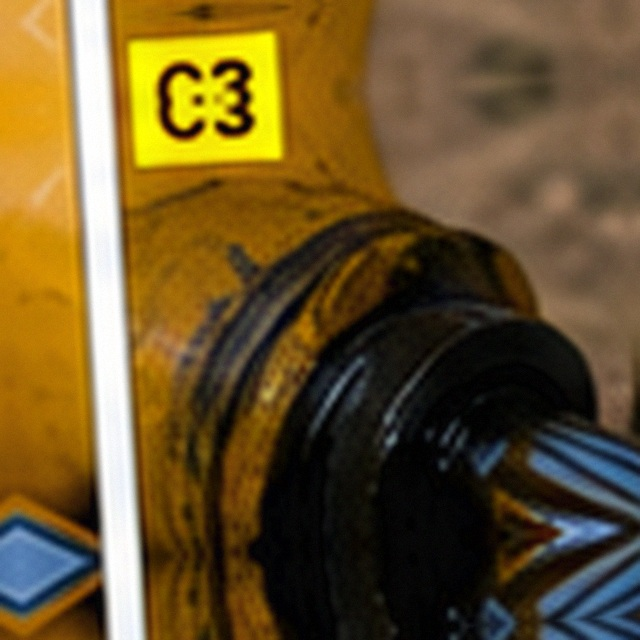hydraulic_oil_leak: (202, 245, 440, 482)
